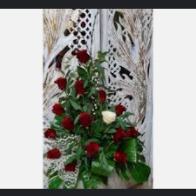RedRose: (71, 47, 96, 63), (50, 71, 68, 92), (42, 143, 61, 162), (73, 76, 89, 96), (45, 121, 60, 142), (76, 108, 90, 129), (109, 152, 129, 166), (111, 127, 127, 144), (60, 115, 74, 133), (64, 158, 80, 173), (94, 86, 108, 103), (115, 97, 127, 116), (47, 101, 62, 115), (84, 142, 99, 155), (128, 125, 141, 139)
